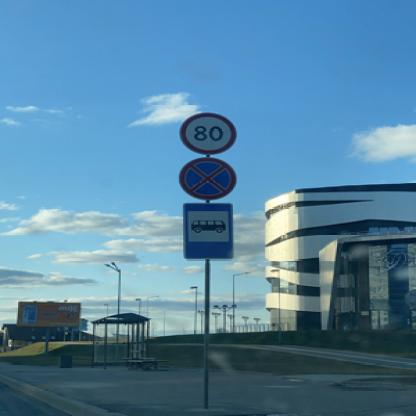Speed Limit 80: (182, 111, 236, 155)
